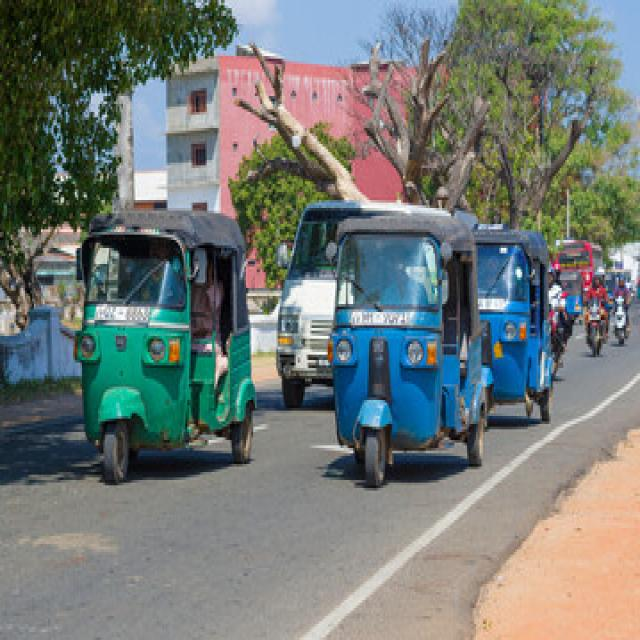motorcycle: (587, 299, 603, 357), (615, 296, 624, 344)
person: (613, 277, 629, 325), (588, 275, 606, 304)
three wheeler: (75, 211, 253, 483), (332, 211, 483, 485), (474, 224, 551, 421)
van: (276, 203, 362, 408)
